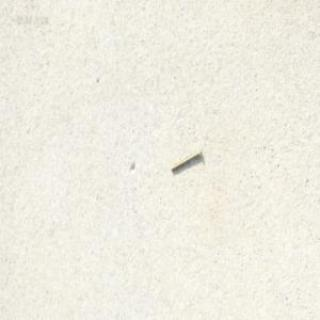Bolttrack_idkeyframe: (170, 146, 200, 171)
